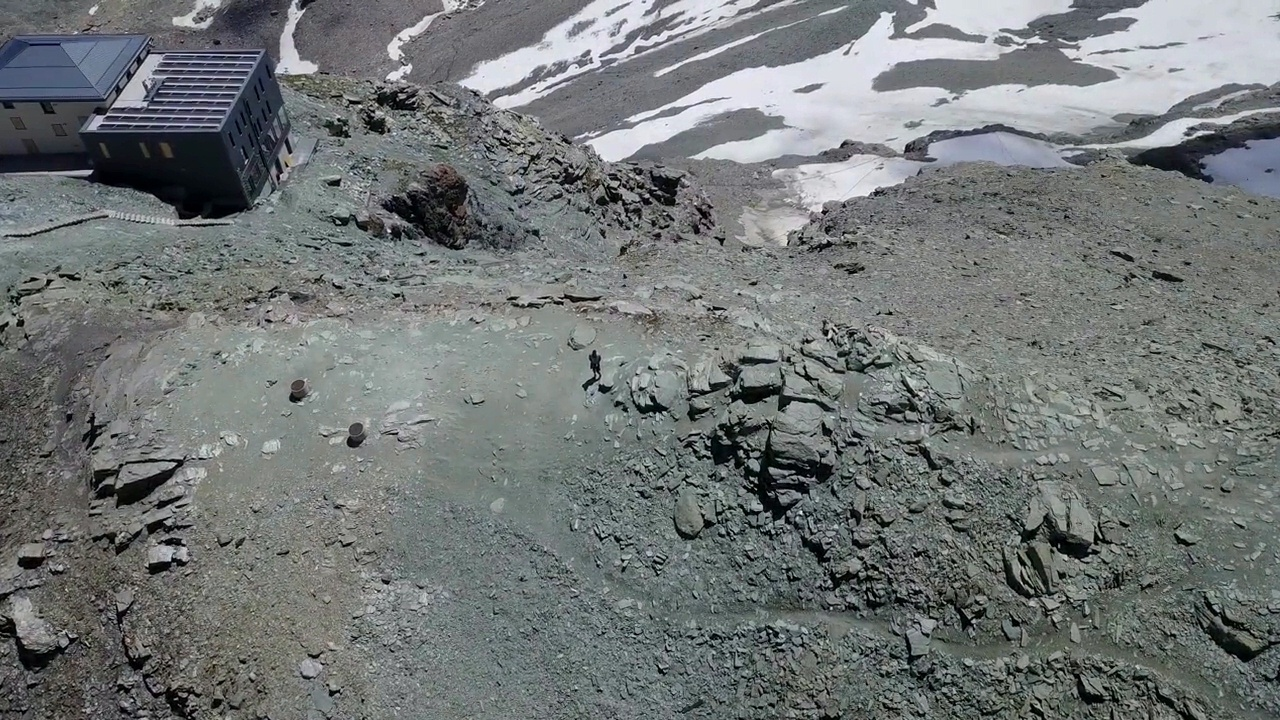insan: (587, 347, 606, 380)
